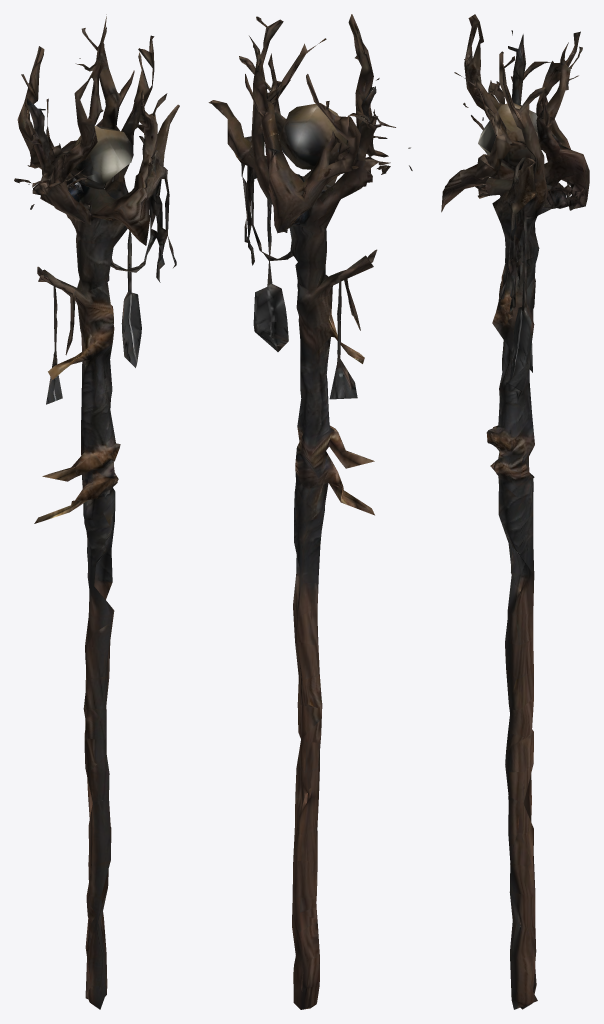
The model's file is 1028_staff.glb.
3 views of the same model, side by side, from view 1: azimuth 30°, elevation 25°; view 2: azimuth 150°, elevation 25°; view 3: azimuth 270°, elevation 25° (orthographic).
Visible parts, largest first — view 1: Model; view 2: Model; view 3: Model.
Part boxes in pixels (x1,y1,x2,y2): Model: (14, 14, 179, 1009); Model: (208, 14, 412, 1009); Model: (441, 14, 589, 1009).
Size of the model in its own units: 0.1903 by 1 by 0.1366.
1 material, 1 textured.
